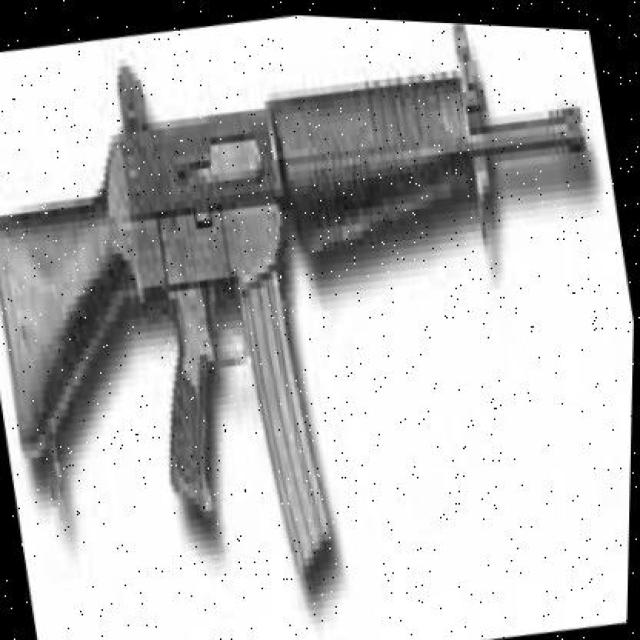weapon: (0, 22, 586, 596)
